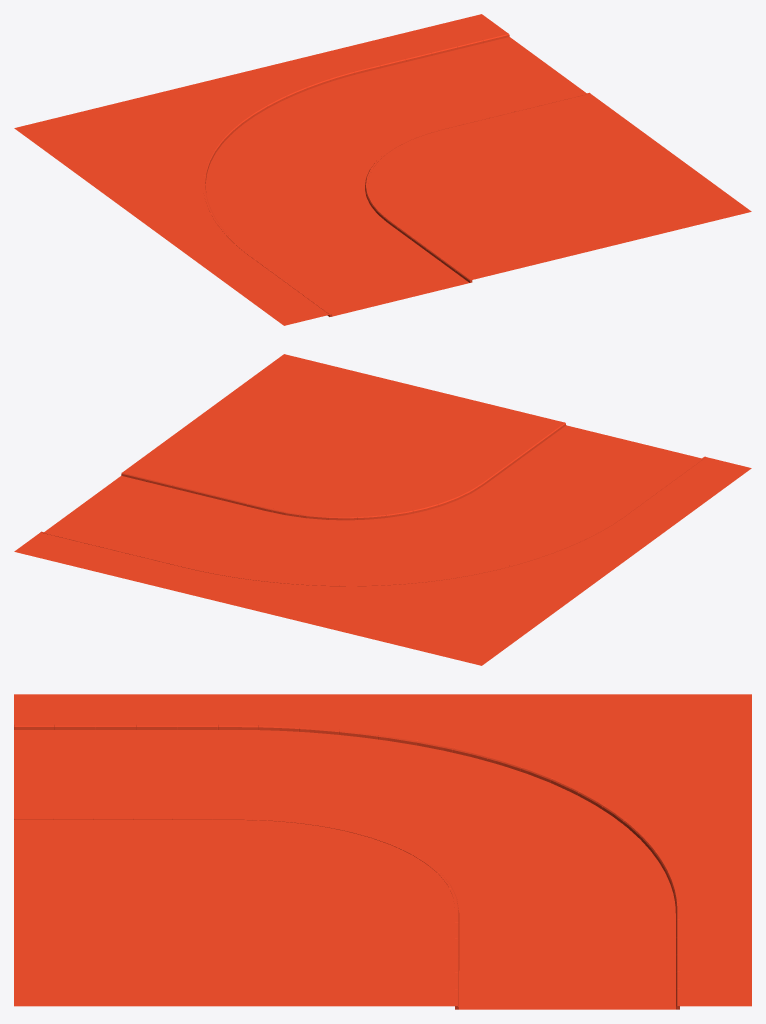
Rendered from SM_Road_Turn_20x20_City.fbx.
The picture shows the model from 3 angles, top to bottom: view 1: azimuth 30°, elevation 25°; view 2: azimuth 150°, elevation 25°; view 3: azimuth 270°, elevation 25°; orthographic projection. The views are drawn at different scales.
Parts seen in each view (by area): view 1: SM_Road_Turn_20x20_City; view 2: SM_Road_Turn_20x20_City; view 3: SM_Road_Turn_20x20_City.
Part boxes in pixels (x1,y1,x2,y2): SM_Road_Turn_20x20_City: (14,14,751,325); SM_Road_Turn_20x20_City: (14,354,751,665); SM_Road_Turn_20x20_City: (14,694,751,1009).
Bounding box in the file's own units: 20 × 0.1084 × 20.
